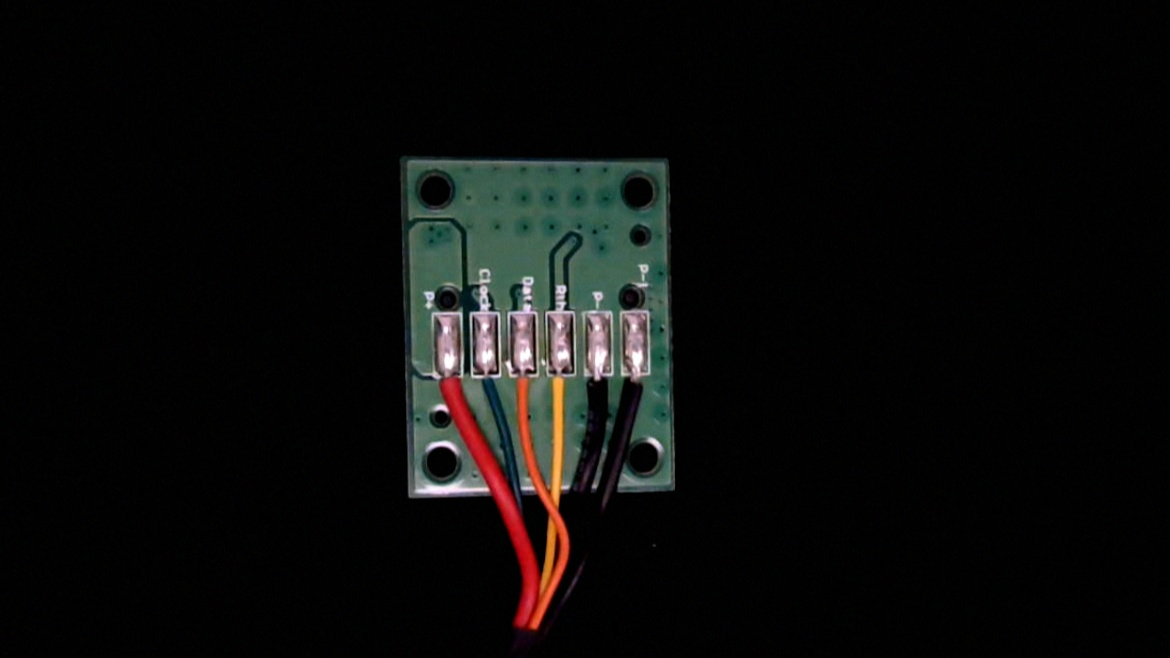Black: (581, 358, 614, 433)
Black1: (621, 360, 654, 428)
Green: (472, 356, 504, 416)
Orange: (509, 357, 540, 431)
Red: (431, 357, 465, 430)
Yellow: (544, 358, 577, 433)
